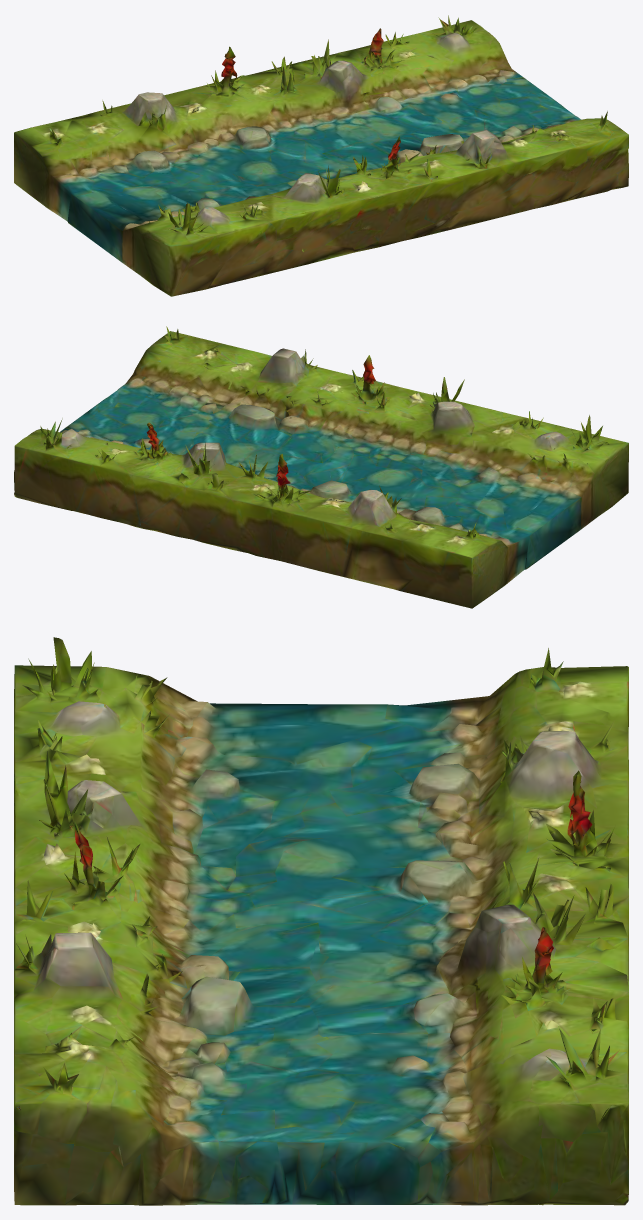
The model's file is stream-straight.glb.
The picture shows the model from 3 angles, top to bottom: view 1: azimuth 30°, elevation 25°; view 2: azimuth 150°, elevation 25°; view 3: azimuth 270°, elevation 25°; orthographic projection. The views are drawn at different scales.
Size of the model in its own units: 1.91 by 0.544 by 1.13.
1 material, 1 textured.
